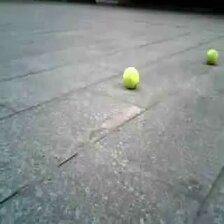tennis: (122, 67, 140, 88), (206, 48, 219, 64)
